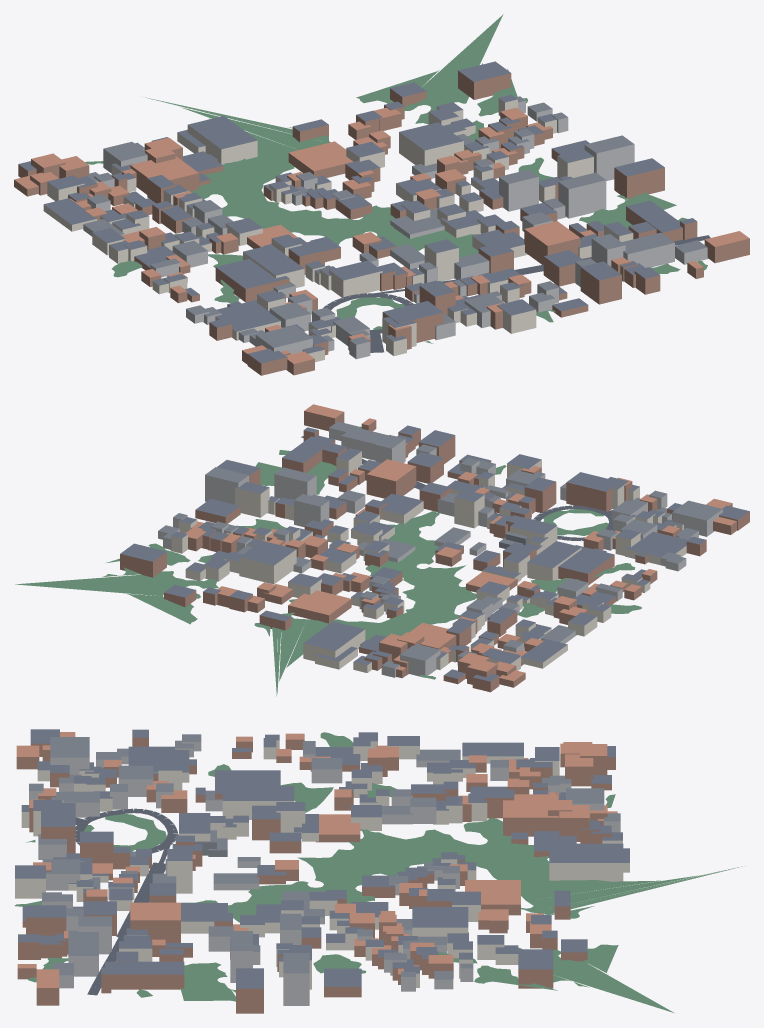
The model's file is tile_0_2_lod1.glb.
3 views of the same model, one above another, from view 1: azimuth 30°, elevation 25°; view 2: azimuth 150°, elevation 25°; view 3: azimuth 270°, elevation 25° (orthographic). The views are drawn at different scales.
Visible parts, largest first — view 1: TileRoot; view 2: TileRoot; view 3: TileRoot.
Boxes of the visible parts, <box> form: TileRoot: <box>14,14,749,375</box>; TileRoot: <box>15,404,749,696</box>; TileRoot: <box>14,729,742,1013</box>.
Size of the model in its own units: 470 by 34.15 by 499.
